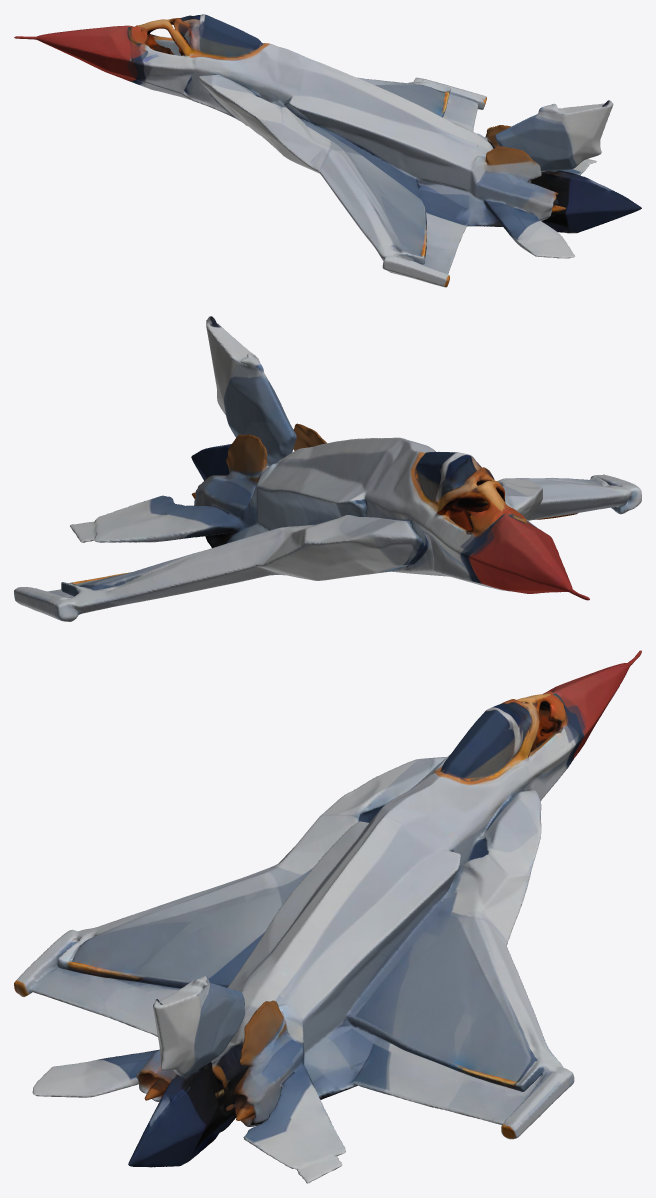
File: jet_fighter.glb
3 views of the same model, one above another, from view 1: azimuth 30°, elevation 25°; view 2: azimuth 150°, elevation 25°; view 3: azimuth 270°, elevation 25° (orthographic). The views are drawn at different scales.
Visible parts, largest first — view 1: tripo_node_74ade211-0b05-4542-991c-0f859ff0e449; view 2: tripo_node_74ade211-0b05-4542-991c-0f859ff0e449; view 3: tripo_node_74ade211-0b05-4542-991c-0f859ff0e449.
Boxes of the visible parts, bbox=[...] form: tripo_node_74ade211-0b05-4542-991c-0f859ff0e449: bbox=[14, 14, 641, 287]; tripo_node_74ade211-0b05-4542-991c-0f859ff0e449: bbox=[14, 316, 641, 621]; tripo_node_74ade211-0b05-4542-991c-0f859ff0e449: bbox=[14, 650, 641, 1183].
Bounding box in the file's own units: 1 × 0.4037 × 0.8295.
1 material, 1 textured.
